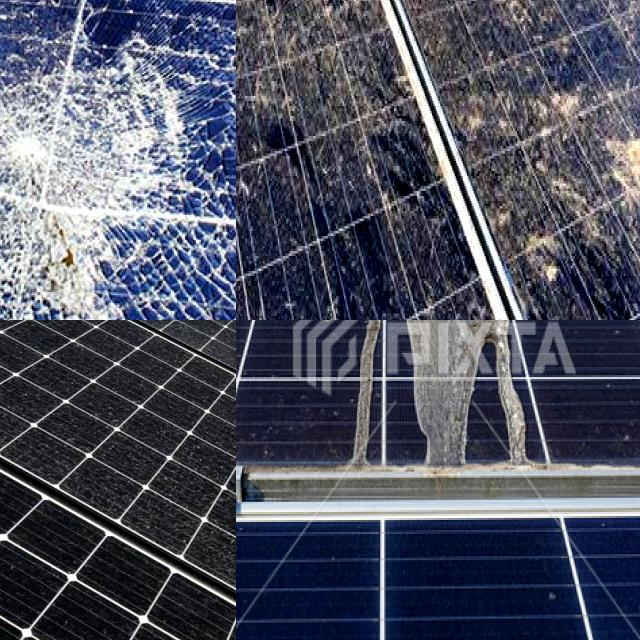bird: (343, 320, 539, 512), (346, 126, 400, 242), (508, 208, 586, 285), (236, 0, 324, 64), (485, 87, 565, 148), (604, 118, 640, 220), (362, 0, 457, 34), (452, 0, 509, 50), (236, 139, 264, 204), (236, 268, 270, 320), (236, 0, 277, 42), (236, 131, 254, 200), (236, 0, 268, 22)
dust: (70, 432, 216, 587), (0, 492, 97, 640), (94, 320, 236, 400), (0, 320, 70, 448), (11, 320, 126, 366), (0, 320, 87, 366)
hotspot: (0, 43, 136, 320), (155, 38, 236, 282), (0, 0, 236, 67), (0, 0, 113, 130), (0, 204, 71, 320)
